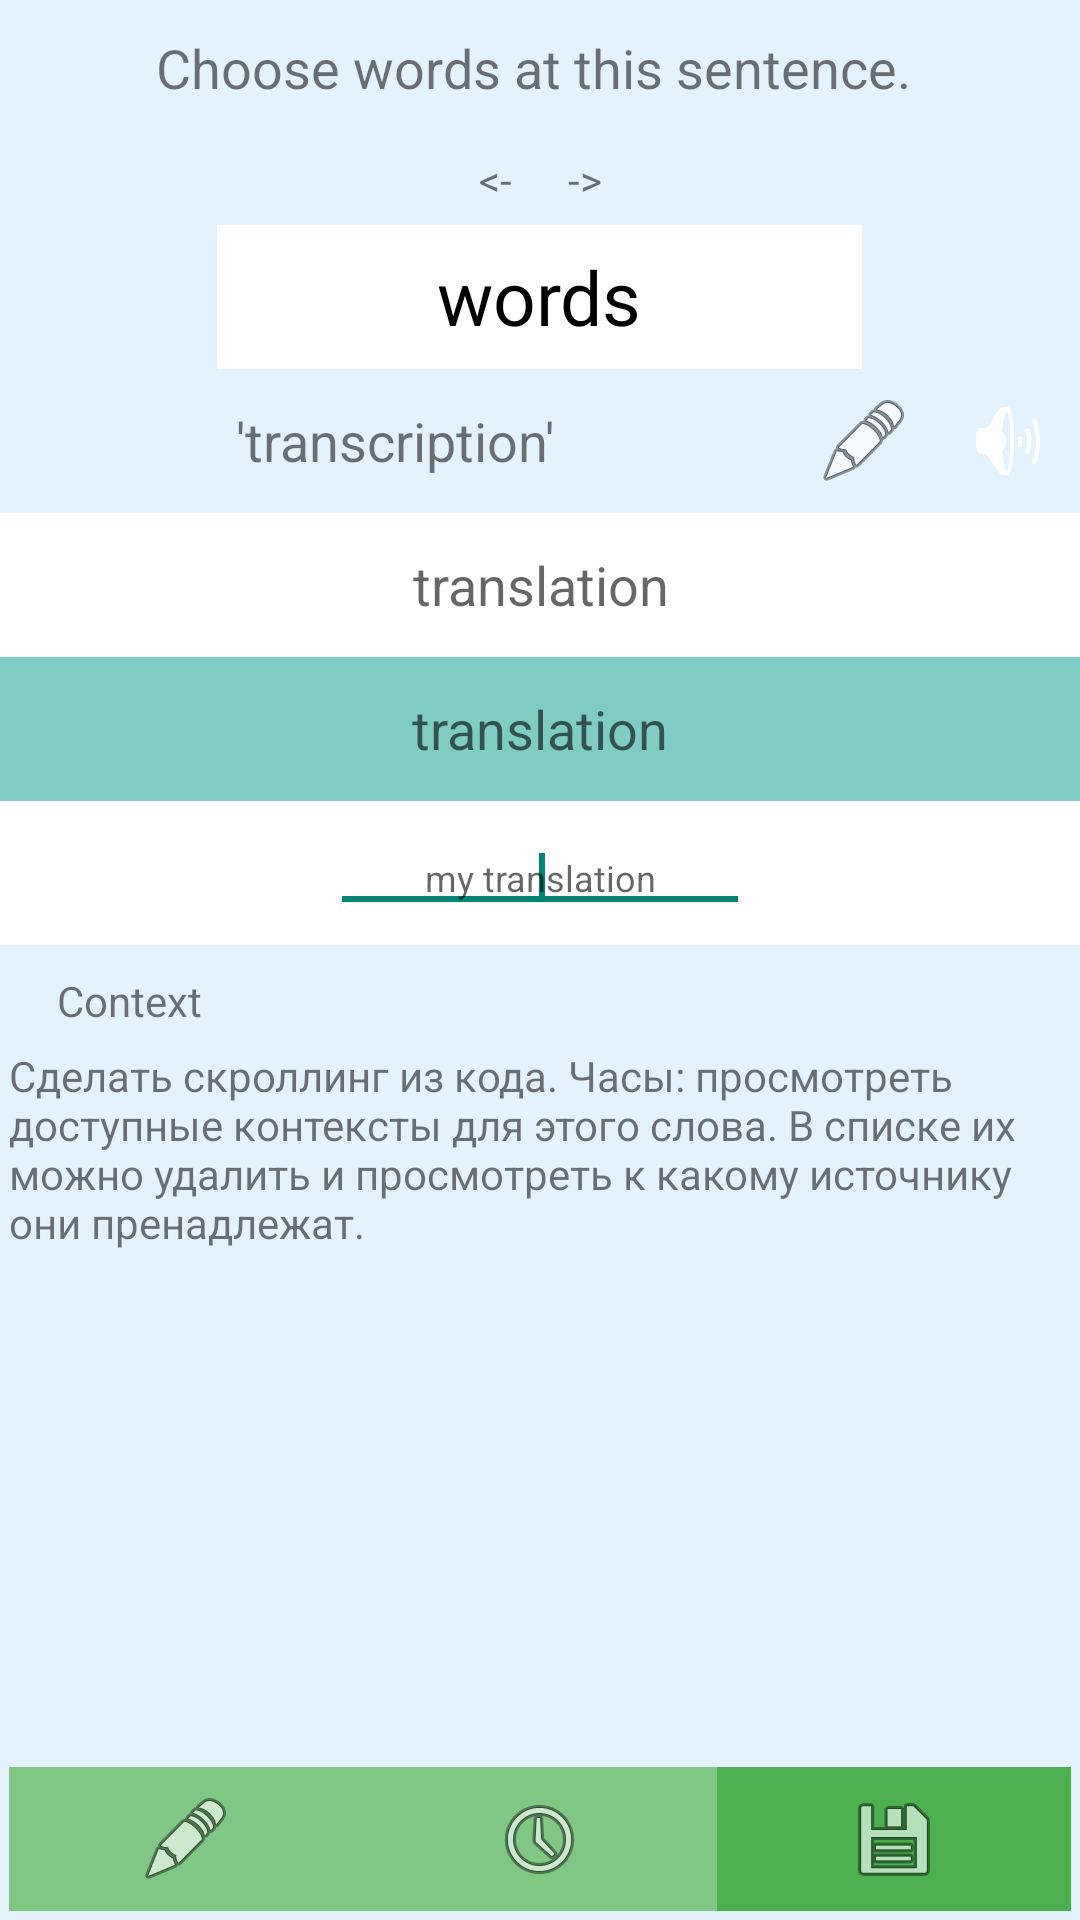

Screen size 1080 x 1920. Icon name, then its center in pixels as (x=x, y=y):
edit: (x=863, y=440), (x=186, y=1839)
recent history: (x=540, y=1839)
save: (x=894, y=1839)
